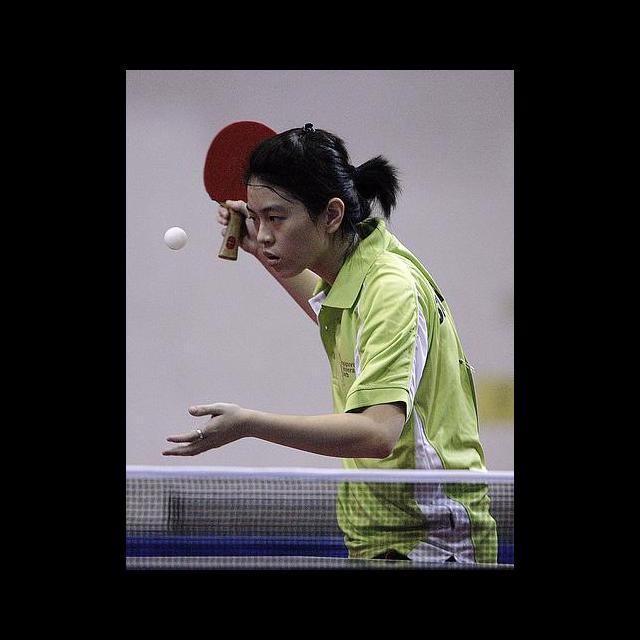ping-pong-ball: (163, 225, 190, 252)
